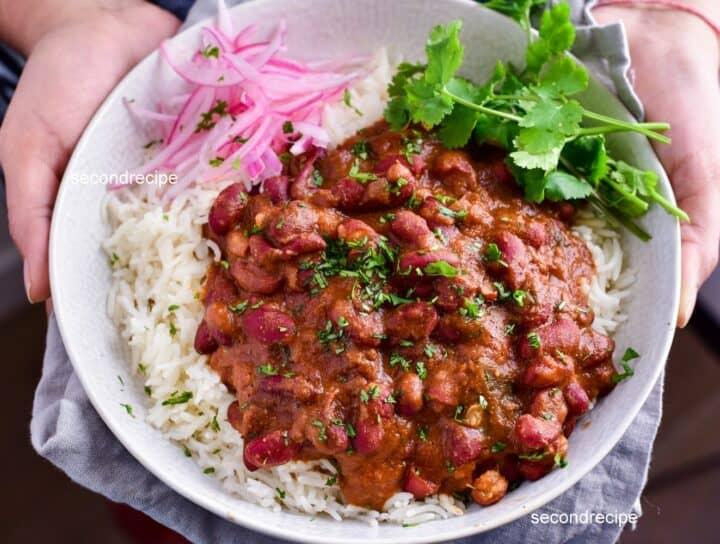rajma: (243, 173, 579, 489)
